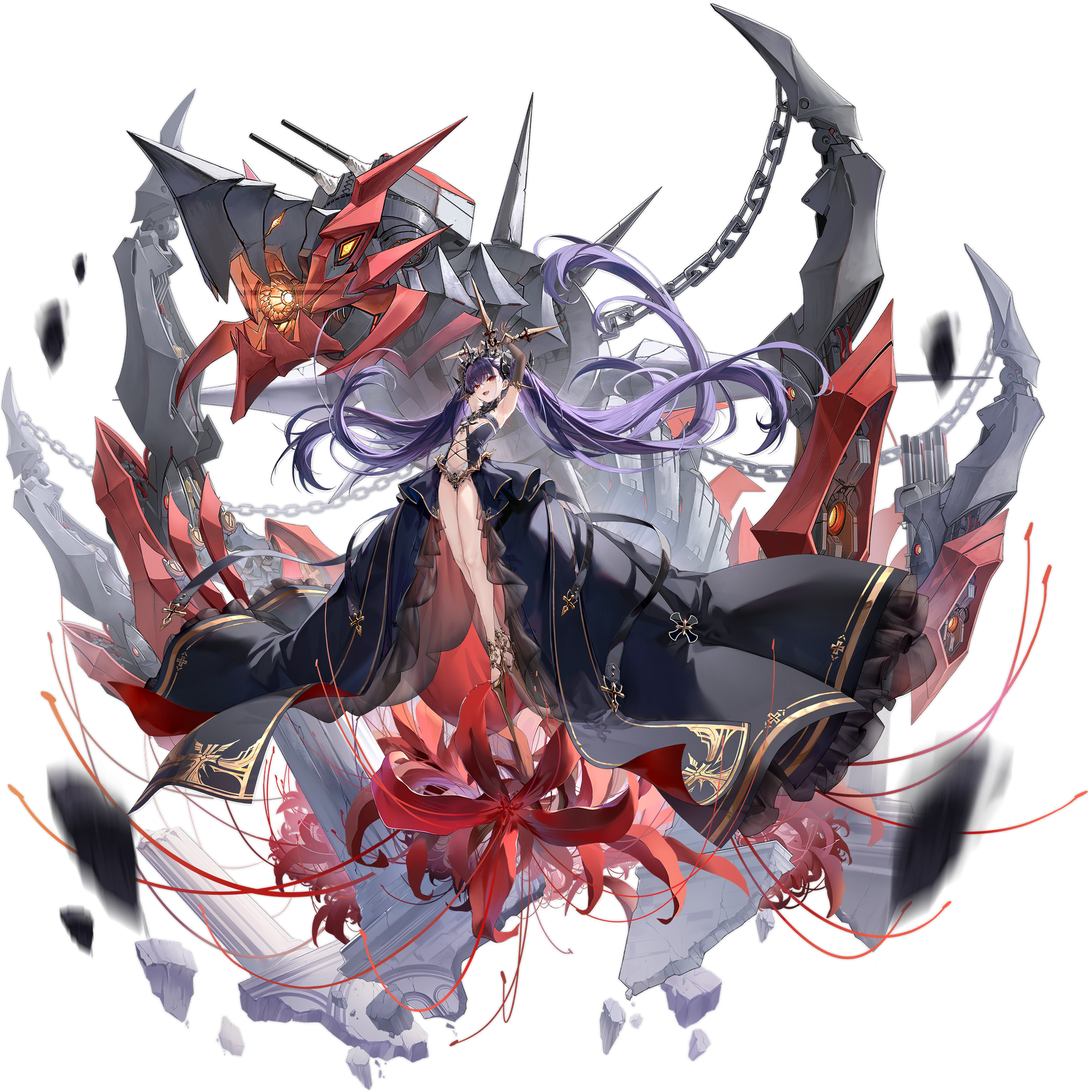person: (129, 281, 982, 1089)
